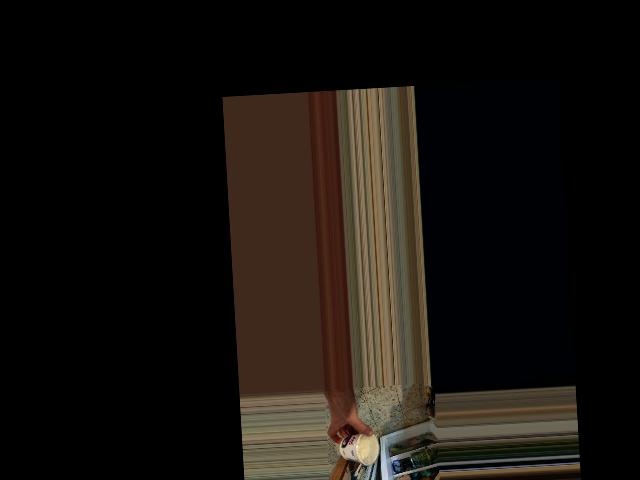cotage: (336, 427, 379, 466)
